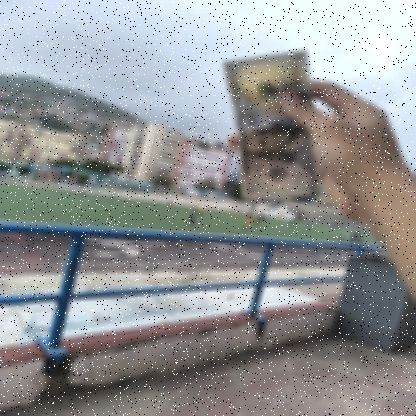one_hundred-front: (220, 48, 327, 208)
